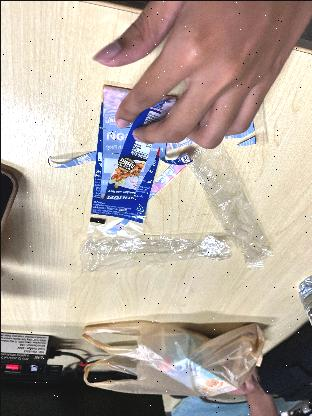Others: (68, 88, 180, 233), (190, 146, 276, 262), (68, 224, 236, 278)
